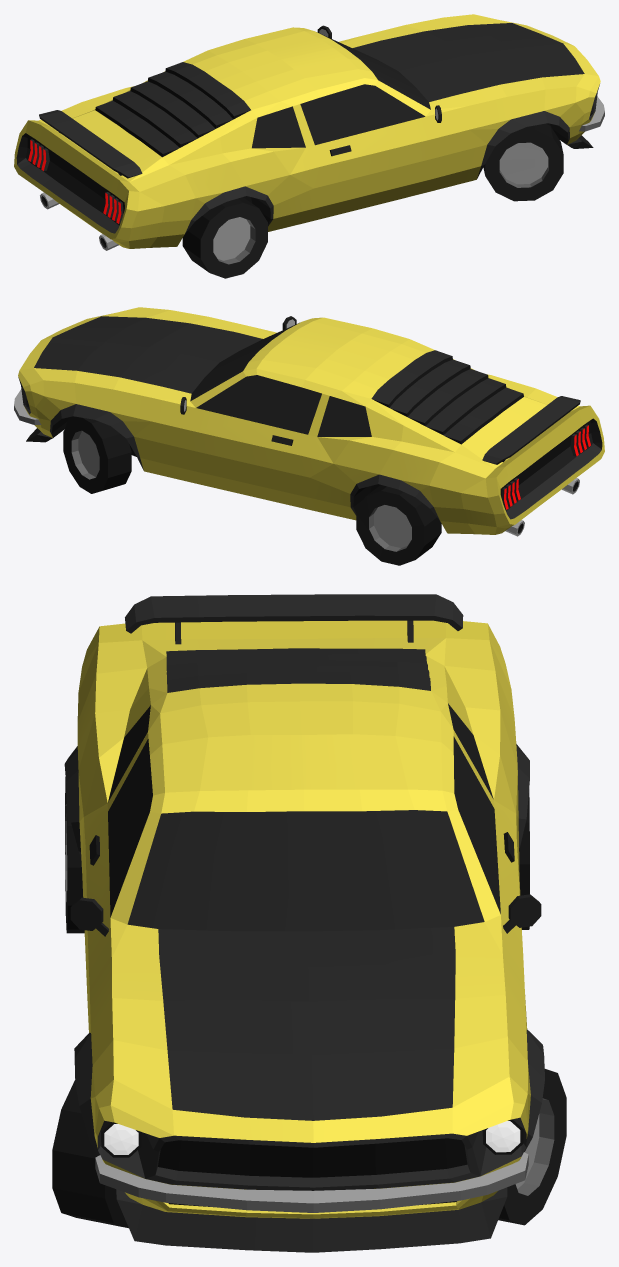
File: Car_070.glb
3 renders of one model, top to bottom at view 1: azimuth 30°, elevation 25°; view 2: azimuth 150°, elevation 25°; view 3: azimuth 270°, elevation 25°, orthographic. The views are drawn at different scales.
Parts seen in each view (by area): view 1: Car_070, wheel_3_Car_070_Wheel_3R, wheel_0_Car_070_Wheel_1R; view 2: Car_070, wheel_2_Car_070_Wheel_3L, wheel_1_Car_070_Wheel_2L; view 3: Car_070, wheel_0_Car_070_Wheel_1R, wheel_1_Car_070_Wheel_2L, wheel_3_Car_070_Wheel_3R.
Boxes of the visible parts, x1=… form: Car_070: x1=14, y1=14, x2=604, y2=250; wheel_3_Car_070_Wheel_3R: x1=182, y1=197, x2=267, y2=278; wheel_0_Car_070_Wheel_1R: x1=483, y1=123, x2=563, y2=201; Car_070: x1=14, y1=307, x2=604, y2=536; wheel_2_Car_070_Wheel_3L: x1=356, y1=485, x2=441, y2=565; wheel_1_Car_070_Wheel_2L: x1=63, y1=417, x2=131, y2=493; Car_070: x1=64, y1=594, x2=544, y2=1252; wheel_0_Car_070_Wheel_1R: x1=52, y1=1080, x2=128, y2=1228; wheel_1_Car_070_Wheel_2L: x1=498, y1=1069, x2=566, y2=1225; wheel_3_Car_070_Wheel_3R: x1=65, y1=777, x2=84, y2=933.
Size of the model in its own units: 5.24 by 1.42 by 2.26.
3 materials, 3 textured.
